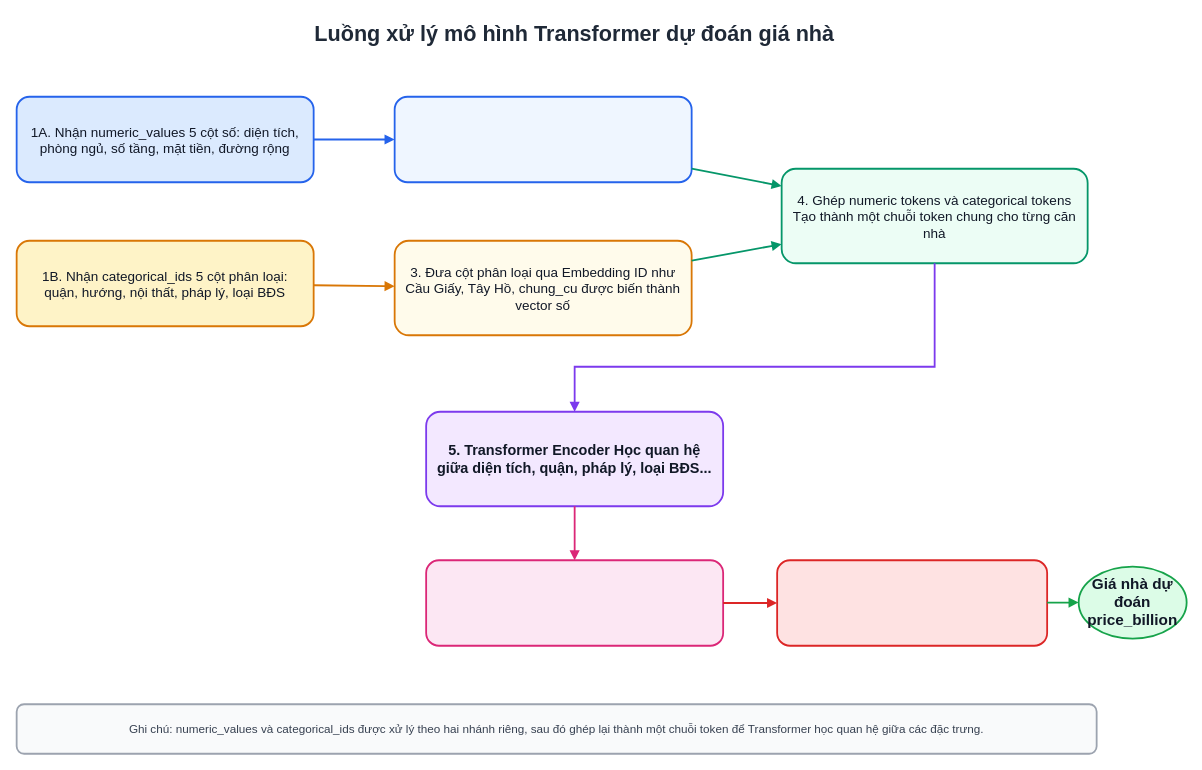
Some shapes in this 1202 by 770 pixel diagram are drawn without their labels. The shapes that lost their labels are listed below. From the top down, each one's centre as x and y in pixels, then its label:
[542,139]: 2. Biến mỗi cột số thành numeric token Mỗi đặc trưng số được đưa về dạng token
[574,602]: 6. Mean Pooling Lấy trung bình các token sau Encoder để tạo biểu diễn chung
[912,602]: 7. Regression Head Dùng biểu diễn đã học để dự đoán giá nhà
